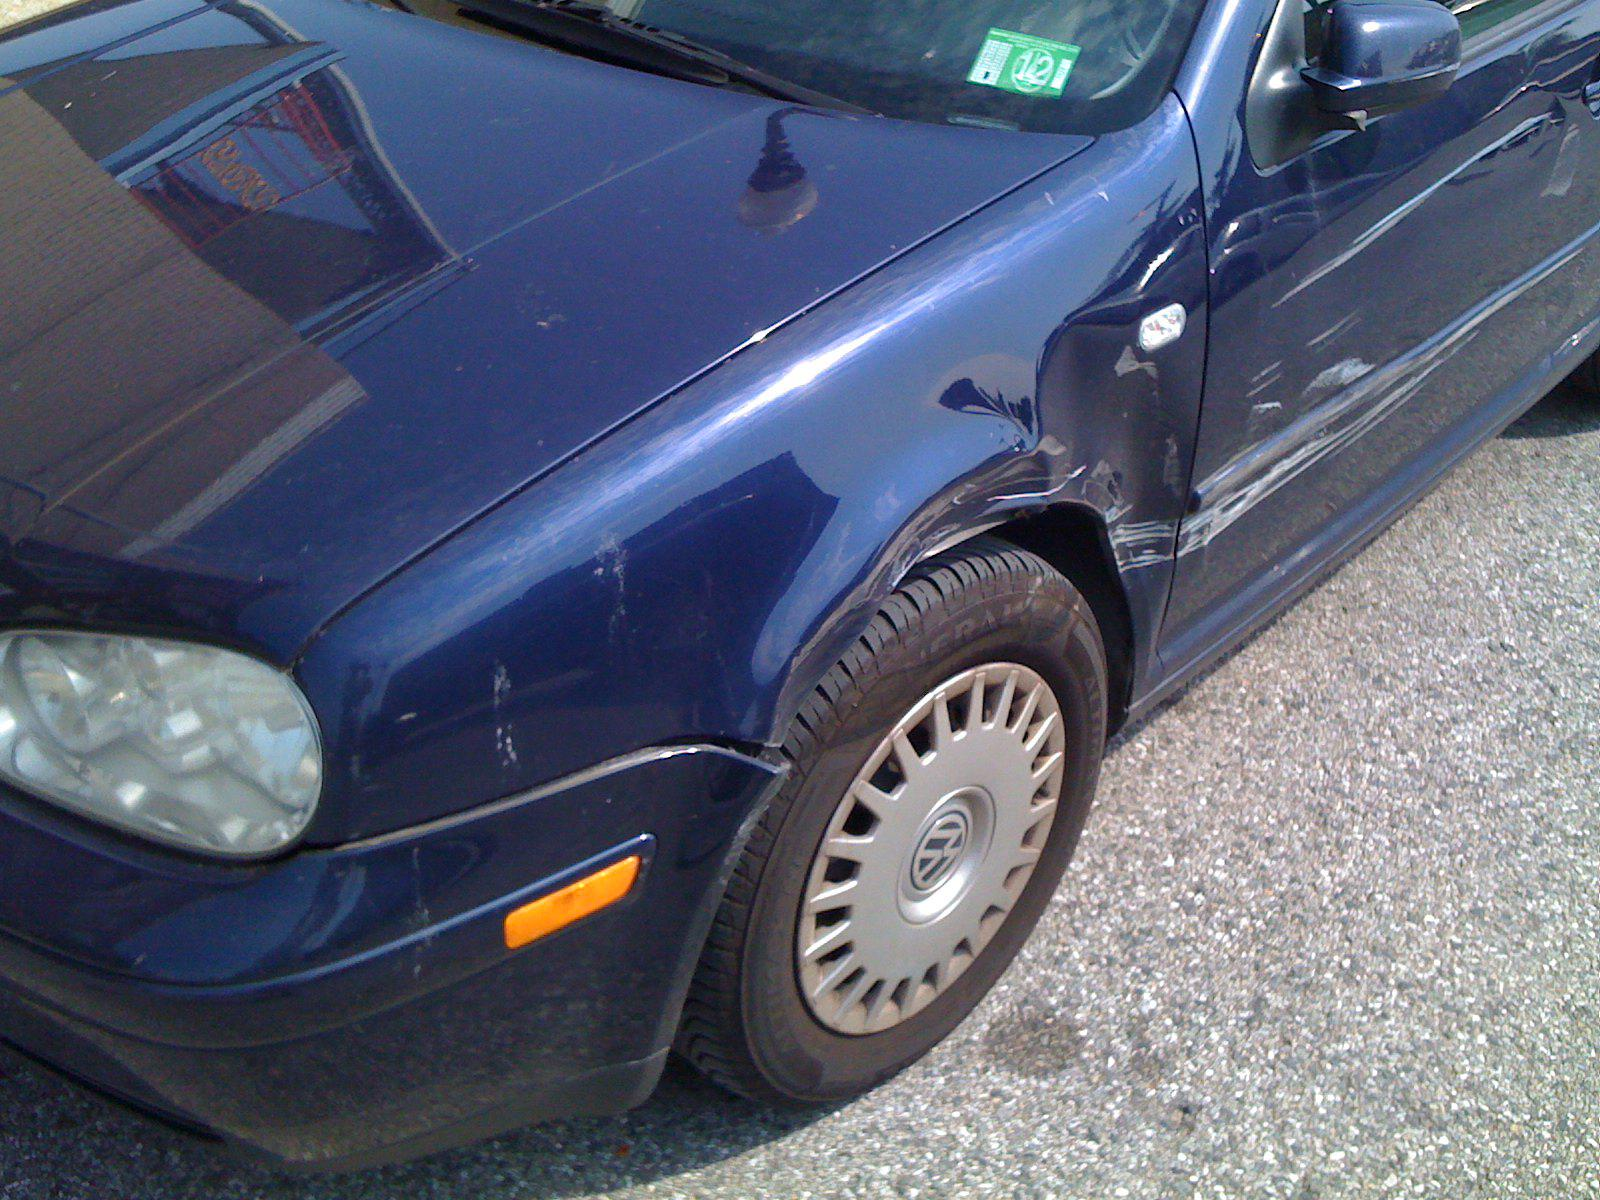fender-dent: (918, 239, 1233, 629)
